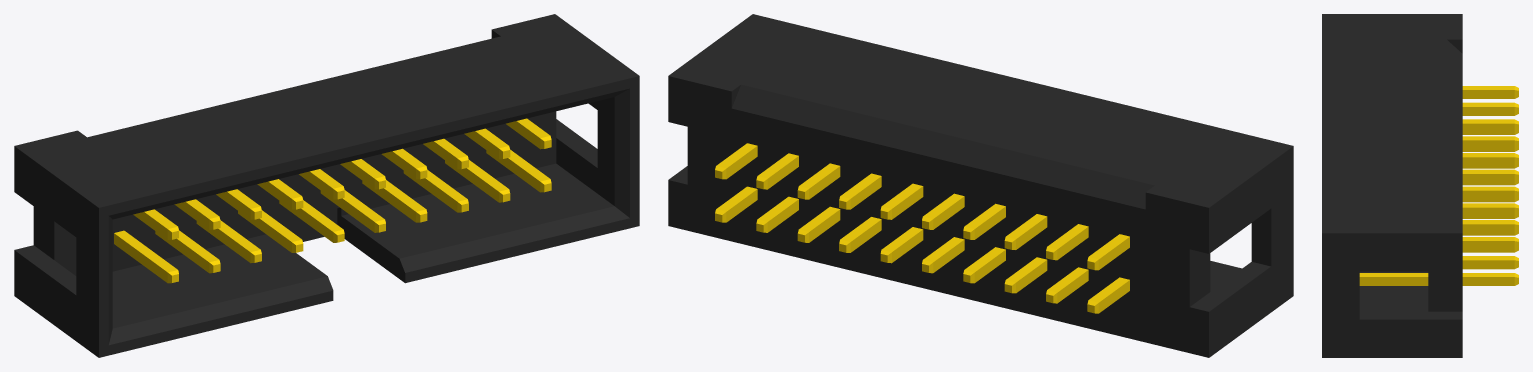
File: DS1013-20S (IDC-20MS CONNFLY).obj
3 views of the same model, side by side, from view 1: azimuth 30°, elevation 25°; view 2: azimuth 150°, elevation 25°; view 3: azimuth 270°, elevation 25° (orthographic). The views are drawn at different scales.
Visible parts, largest first — view 1: DS1013-20S_(IDC-20MS_CONNFLY); view 2: DS1013-20S_(IDC-20MS_CONNFLY); view 3: DS1013-20S_(IDC-20MS_CONNFLY).
Part boxes in pixels (box(x1,y1,x2,y2)): DS1013-20S_(IDC-20MS_CONNFLY): box(14, 14, 639, 357); DS1013-20S_(IDC-20MS_CONNFLY): box(668, 14, 1293, 357); DS1013-20S_(IDC-20MS_CONNFLY): box(1322, 14, 1518, 357).
Size of the model in its own units: 0.0288 by 0.00771 by 0.0109.
